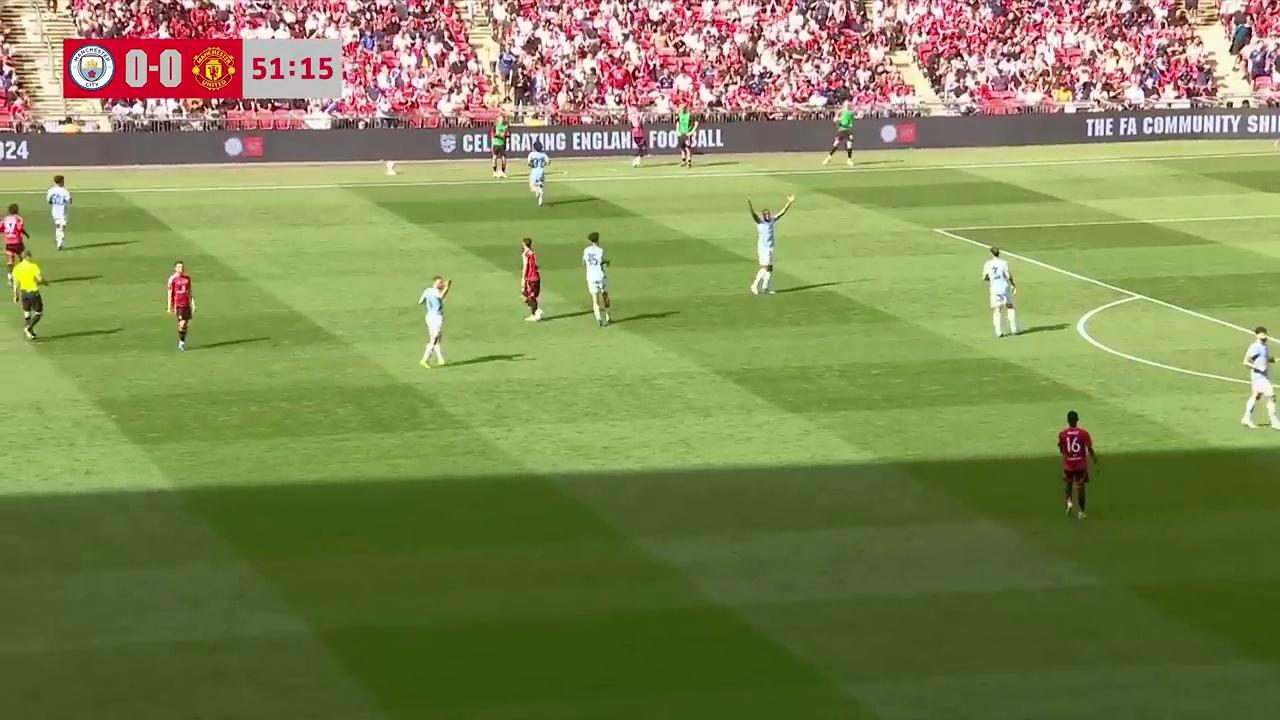player: (1057, 409, 1097, 519), (1241, 326, 1279, 429), (982, 247, 1019, 337), (418, 275, 450, 367), (582, 232, 612, 326), (167, 260, 194, 351), (750, 207, 776, 295), (46, 177, 72, 249), (0, 204, 29, 268), (521, 238, 541, 319), (529, 151, 548, 205)
referee: (13, 249, 49, 341)
